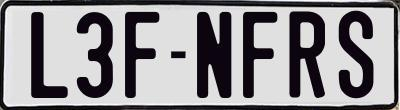3: (77, 10, 115, 99)
F: (243, 11, 281, 103), (124, 11, 162, 100)
L: (30, 11, 68, 101)
N: (195, 10, 232, 96)
R: (286, 8, 325, 95)
S: (338, 9, 376, 100)
